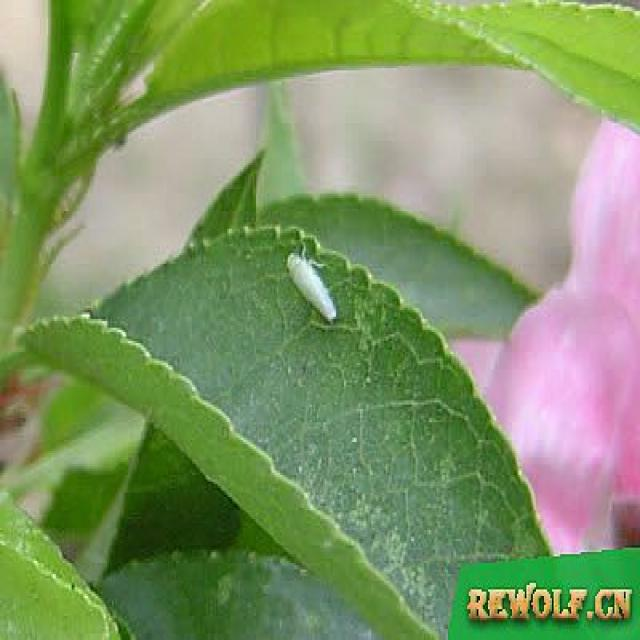Yechan: (280, 237, 341, 330)
